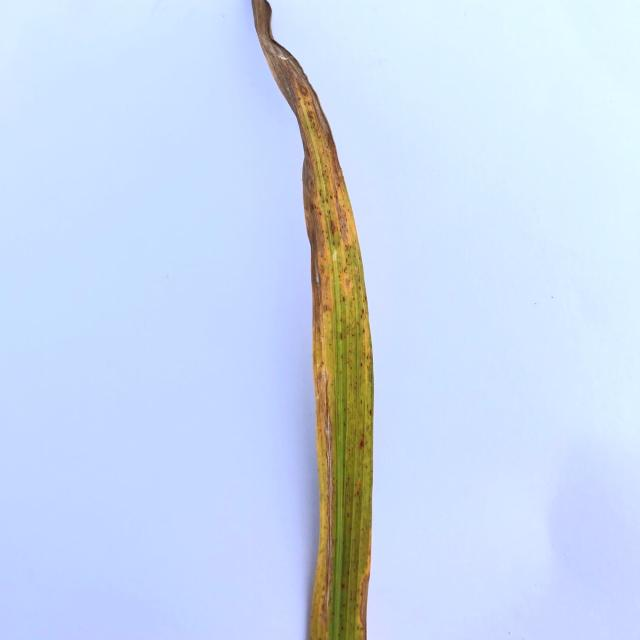tungro: (246, 0, 376, 640)
